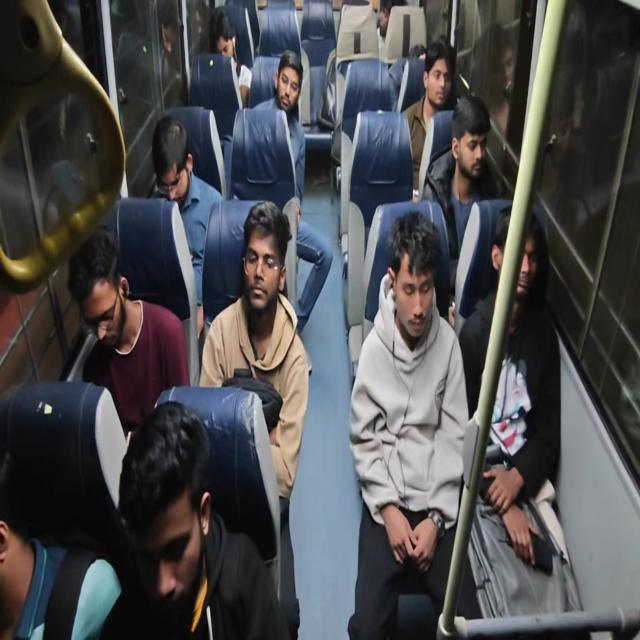person: (347, 210, 469, 638), (458, 210, 580, 618), (198, 199, 310, 637), (97, 400, 291, 639), (68, 225, 190, 439), (252, 49, 333, 336), (0, 455, 122, 639), (421, 93, 502, 314), (147, 115, 223, 336), (400, 37, 458, 198), (538, 71, 578, 222), (208, 8, 252, 108), (486, 35, 517, 137)
